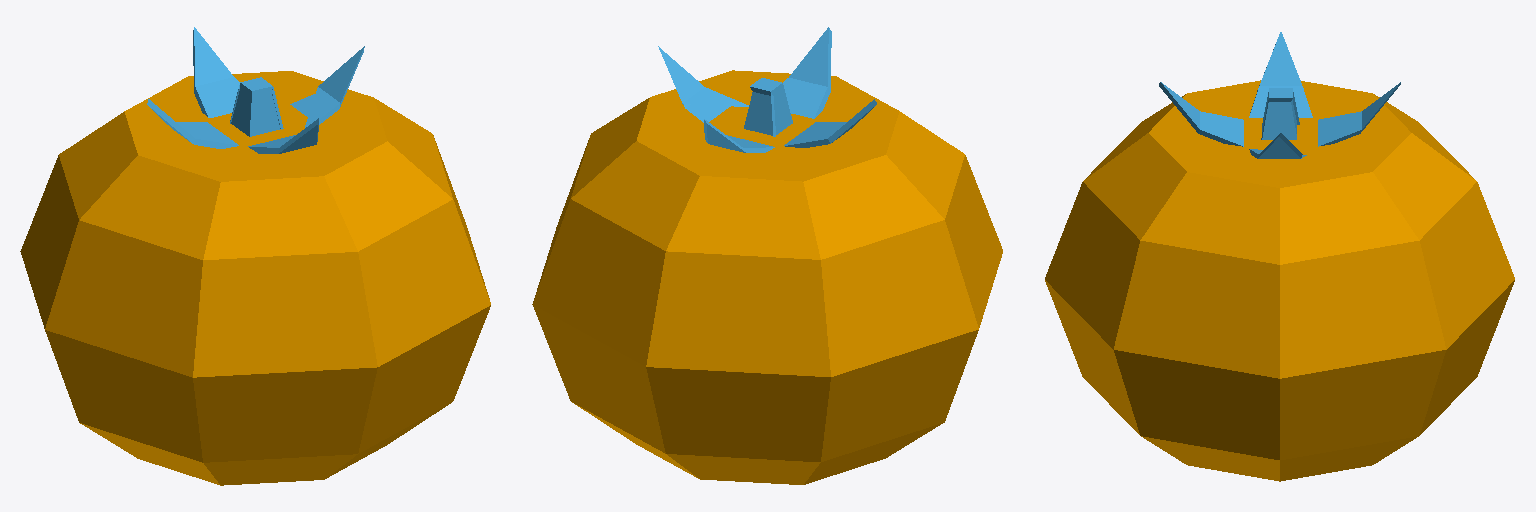
robot.urdf — tomato:
<?xml version="1.0"?>
<robot name="tomato">
  <link name="fruit">
    <inertial>
        <origin rpy="0 0 0" xyz="0 0 0"/>
        <mass value="0.01"/>
        <inertia ixx="4.4e-5" ixy="0" ixz="0" iyy="0" iyz="0" izz="4.4e-5"/>
    </inertial>
    <visual>
      <geometry>
        <mesh filename="fruit.obj"/>
      </geometry>
    </visual>
    <collision>
      <geometry>
        <mesh filename="fruit.obj"/>
      </geometry>
      <surface>
           <bounce restitution_coefficient = "0.1"/>
      </surface>
    </collision>
  </link>
  <link name="tail">
    <inertial>
        <origin rpy="0 0 0" xyz="0 0 0"/>
        <mass value="0.001"/>
        <inertia ixx="1.9e-5" ixy="0" ixz="0" iyy="6.8e-6" iyz="0" izz="1.2e-5"/>
    </inertial>
    <visual>
      <geometry>
        <mesh filename="tail.obj"/>
      </geometry>
    </visual>
    <collision>
      <geometry>
        <mesh filename="tail.obj"/>
      </geometry>
      <surface>
           <bounce restitution_coefficient = "0.1"/>
      </surface>
    </collision>
  </link>
  <joint name="fruit_to_tail" type="fixed">
    <parent link="fruit"/>
    <child link="tail"/>
    <origin rpy="0 0 0" xyz="0 0 0.04"/>
  </joint>
</robot>

--- What the picture shows (computed from the rendered views, not written in the file) ---
3 views of the same robot in one strip: view 1: azimuth 30°, elevation 25°; view 2: azimuth 150°, elevation 25°; view 3: azimuth 270°, elevation 25° (orthographic).
Robot: tomato — 2 links, 1 joints (1 fixed); root link fruit; default pose: every joint at zero.
Links seen in each view (by area): view 1: fruit, tail; view 2: fruit, tail; view 3: fruit, tail.
Boxes of the visible links, x1,y1,x2,y2 form: fruit: (20,71,490,485); tail: (147,27,364,153); fruit: (532,70,1002,484); tail: (658,27,876,152); fruit: (1045,80,1514,481); tail: (1159,32,1400,158).
Size in the robot's own frame: 0.1697 by 0.1697 by 0.1372 metres.
2 mesh visuals loaded from 2 distinct referenced files (2 OBJ).
